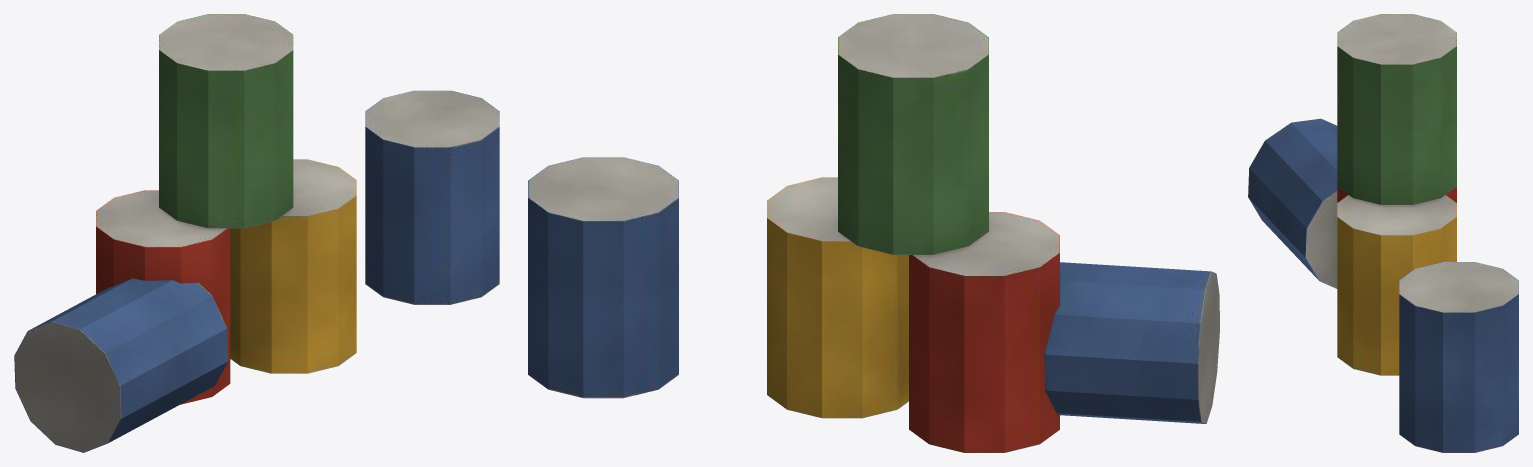
Rendered from cans_food_idle.glb.
3 renders of one model, left to right at view 1: azimuth 30°, elevation 25°; view 2: azimuth 150°, elevation 25°; view 3: azimuth 270°, elevation 25°, orthographic. The views are drawn at different scales.
Parts seen in each view (by area): view 1: cans_food; view 2: cans_food; view 3: cans_food.
Part boxes in pixels (<box>): cans_food: <box>14,14,499,452</box>; cans_food: <box>528,14,1219,452</box>; cans_food: <box>1248,14,1518,452</box>.
Bounding box in the file's own units: 0.3531 × 0.202 × 0.1748.
Materials: 1 (1 with a texture image).
